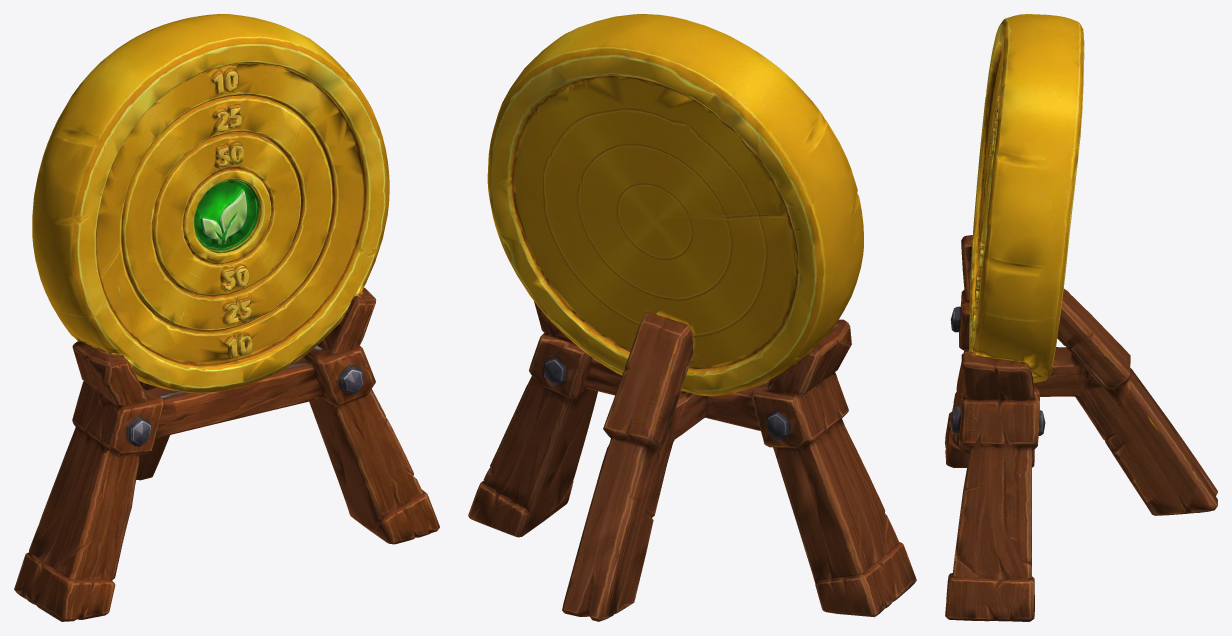
Rendered from target_gold.glb.
The picture shows the model from 3 angles, left to right: view 1: azimuth 30°, elevation 25°; view 2: azimuth 150°, elevation 25°; view 3: azimuth 270°, elevation 25°; orthographic projection. The views are drawn at different scales.
Bounding box in the file's own units: 1.47 × 1.9 × 0.9294.
Materials: 1 (1 with a texture image).
